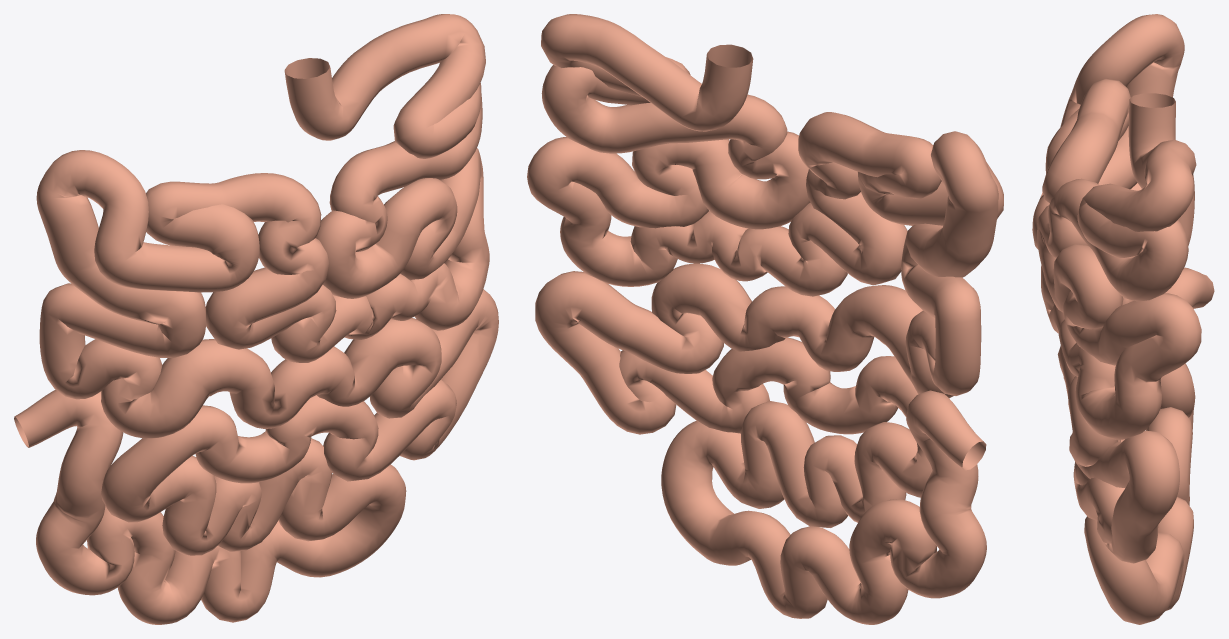
File: visceras-jejunum.glb
3 views of the same model, side by side, from view 1: azimuth 30°, elevation 25°; view 2: azimuth 150°, elevation 25°; view 3: azimuth 270°, elevation 25° (orthographic).
Parts seen in each view (by area): view 1: Jejunum; view 2: Jejunum; view 3: Jejunum.
Boxes of the visible parts, x1,y1,x2,y2 form: Jejunum: (14,14,498,624); Jejunum: (527,14,1003,624); Jejunum: (1032,14,1214,624).
Bounding box in the file's own units: 0.183 × 0.2087 × 0.0621.
